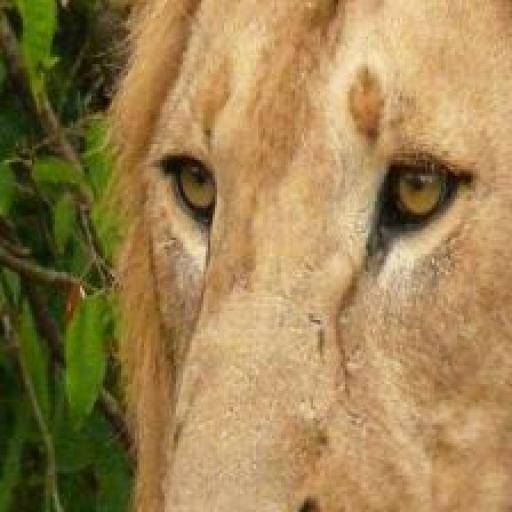lion: (68, 11, 511, 512)
